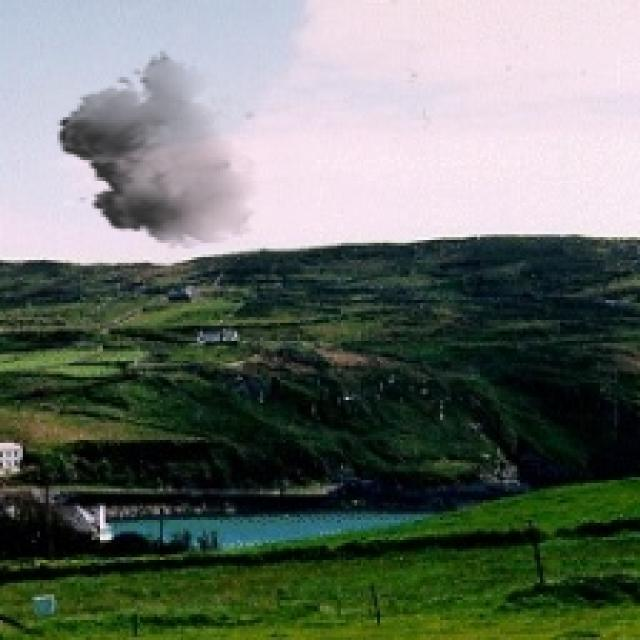Smoke: (48, 48, 266, 248)
